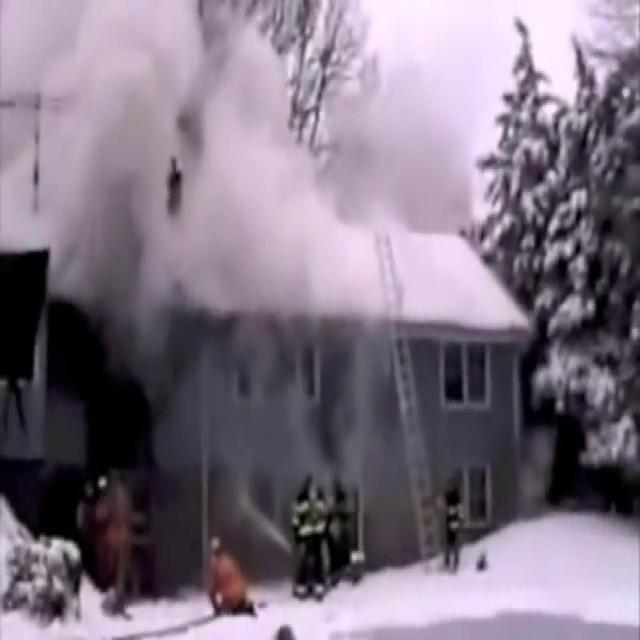Smoke: (16, 0, 337, 292), (132, 299, 428, 563), (316, 34, 466, 240)
